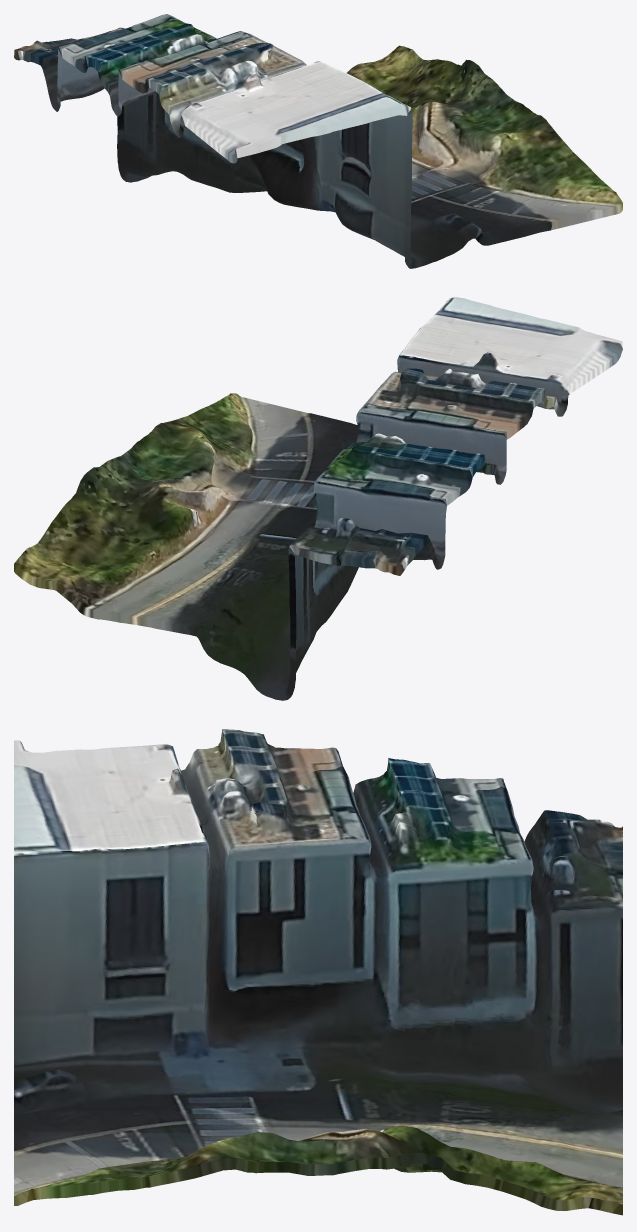
File: z20-167755-405197-h0-yup-uvflip-v3-world.glb
The picture shows the model from 3 angles, top to bottom: view 1: azimuth 30°, elevation 25°; view 2: azimuth 150°, elevation 25°; view 3: azimuth 270°, elevation 25°; orthographic projection. The views are drawn at different scales.
Bounding box in the file's own units: 30.2 × 17.92 × 30.32.
Materials: 1 (1 with a texture image).
